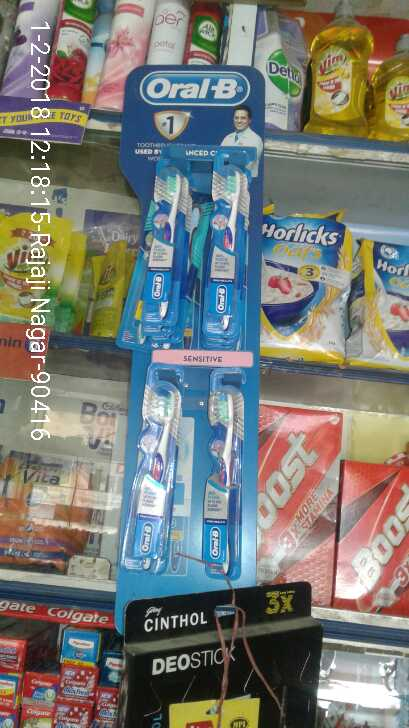oralb: (136, 376, 184, 567), (141, 163, 186, 340), (207, 166, 245, 338), (204, 380, 236, 566)
